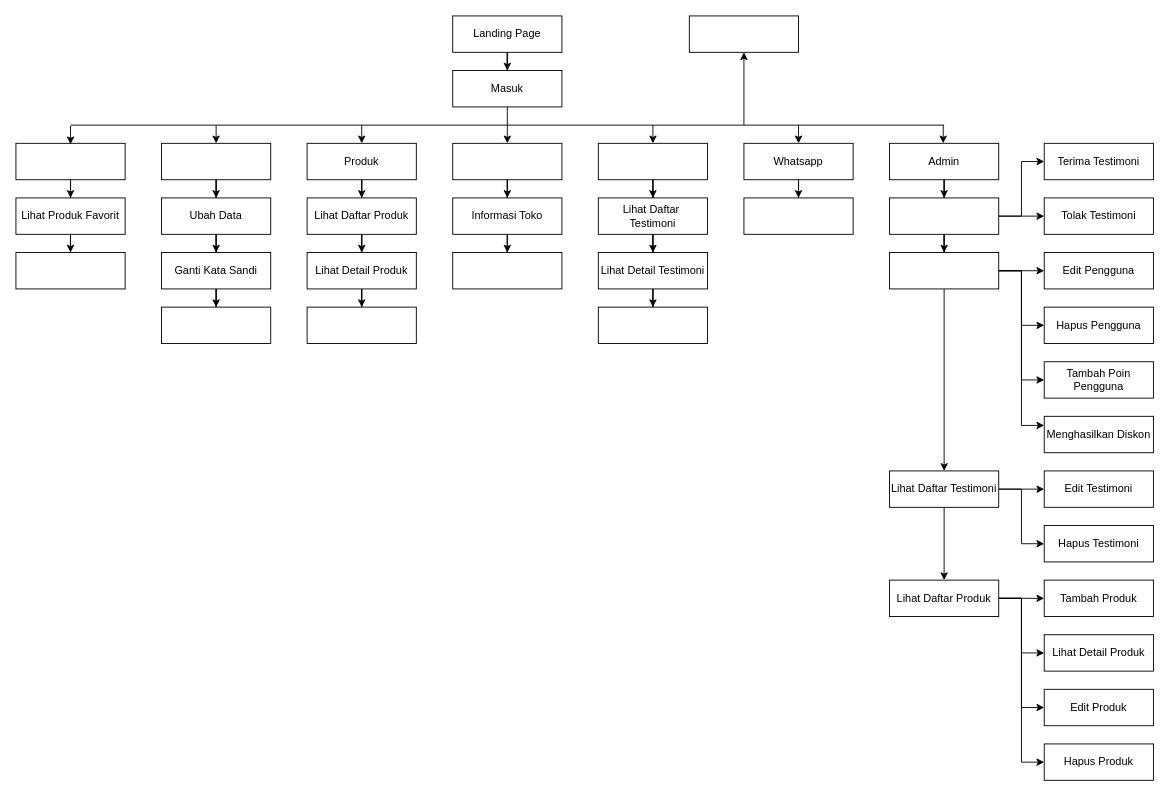
The diagram is 1169 pixels wide and 796 high, and some of its shapes have lost their labels. Each missing label, with the box of its shape:
Beranda: (15, 142, 125, 180)
Daftar Testimoni Yang Belum Disetujui: (889, 197, 999, 234)
Detail Kontak: (452, 252, 562, 289)
Keluar: (688, 15, 799, 52)
Lihat Daftar Pengguna: (889, 252, 999, 289)
Lihat Riwayat Testimoni: (161, 306, 271, 344)
Lihat Testimoni Toko: (15, 252, 125, 289)
Link ke Whatsapp: (743, 197, 853, 234)
Menambah Testimoni Produk: (306, 306, 416, 344)
Profil: (161, 142, 271, 180)
Tambah Testimoni: (597, 306, 708, 344)
Tentang: (452, 142, 562, 180)
Testimoni: (597, 142, 708, 180)
